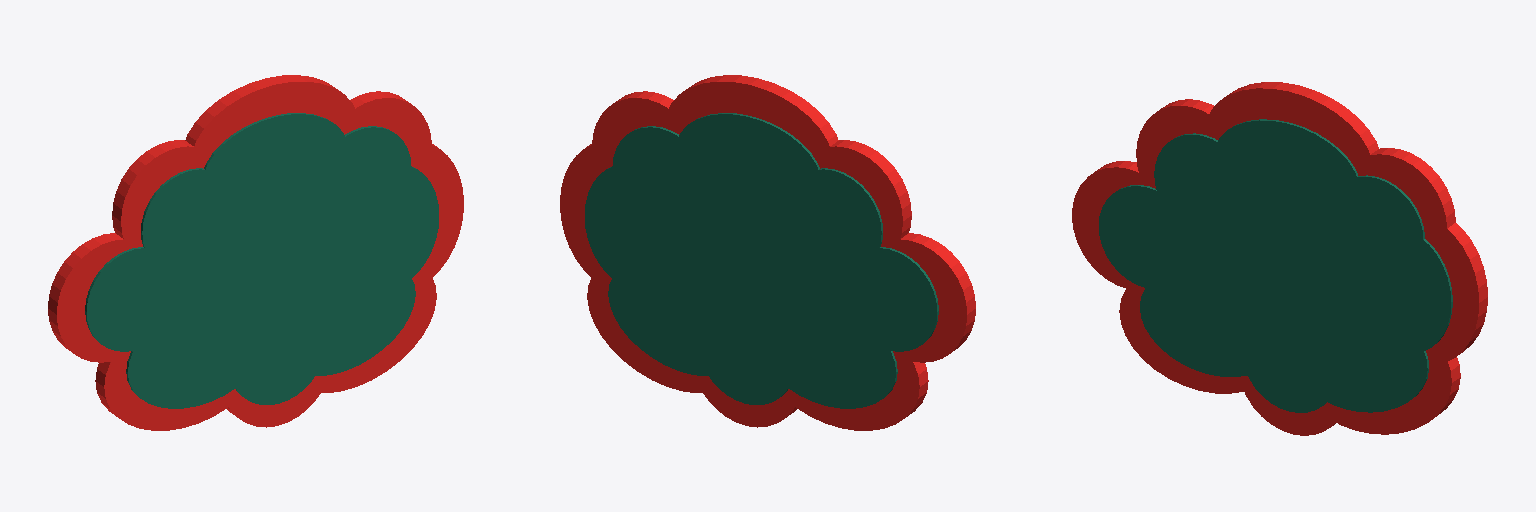
The picture shows the model from 3 angles: view 1: azimuth 30°, elevation 25°; view 2: azimuth 150°, elevation 25°; view 3: azimuth 330°, elevation 25°; orthographic projection.
Visible parts, largest first — view 1: 円柱.001; view 2: 円柱.001; view 3: 円柱.001.
Boxes of the visible parts, <box> form: 円柱.001: <box>48,75,463,430</box>; 円柱.001: <box>560,75,975,430</box>; 円柱.001: <box>1072,82,1487,435</box>.
Size of the model in its own units: 2.49 by 2 by 0.1284.
Materials: 2 (2 with a texture image).